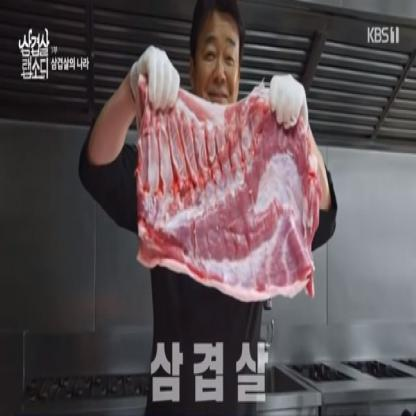pork: (136, 78, 320, 306)
